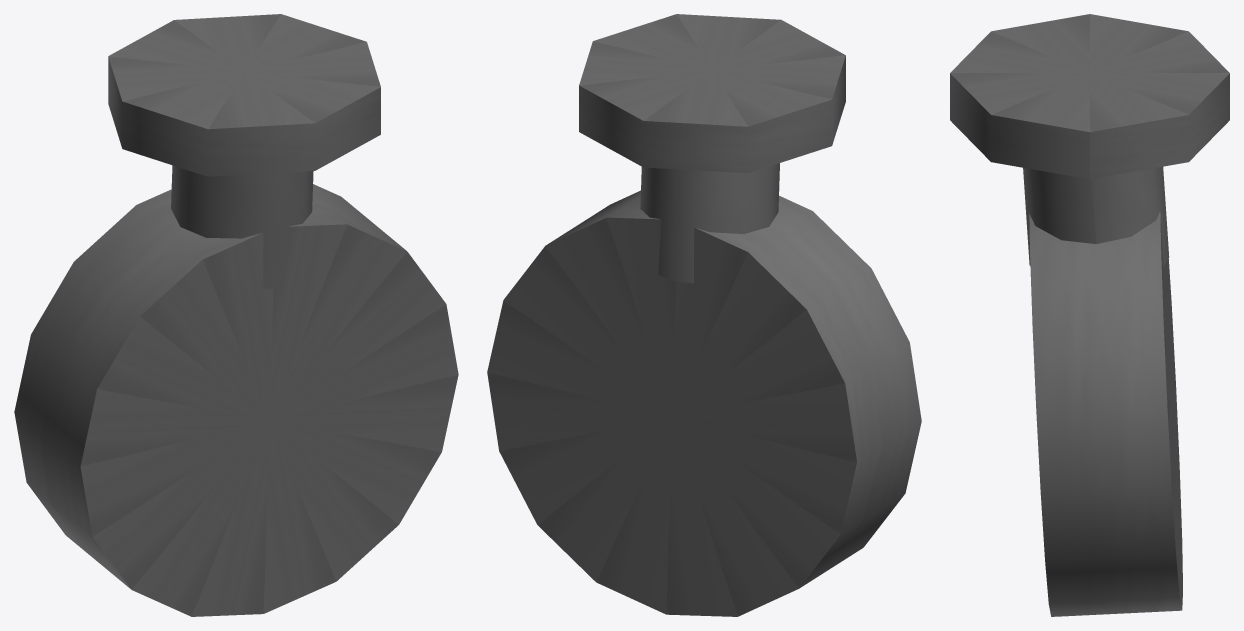
File: mastarmcurve_6x2_c7_up.obj
3 renders of one model, left to right at view 1: azimuth 30°, elevation 25°; view 2: azimuth 150°, elevation 25°; view 3: azimuth 270°, elevation 25°, orthographic. The views are drawn at different scales.
Parts seen in each view (by area): view 1: mastarm_6x2_c7_up; view 2: mastarm_6x2_c7_up; view 3: mastarm_6x2_c7_up.
Part boxes in pixels (x1,y1,x2,y2): mastarm_6x2_c7_up: [14, 14, 458, 616]; mastarm_6x2_c7_up: [487, 14, 921, 616]; mastarm_6x2_c7_up: [950, 14, 1229, 616].
Bounding box in the file's own units: 0.6185 × 0.8258 × 0.4.
